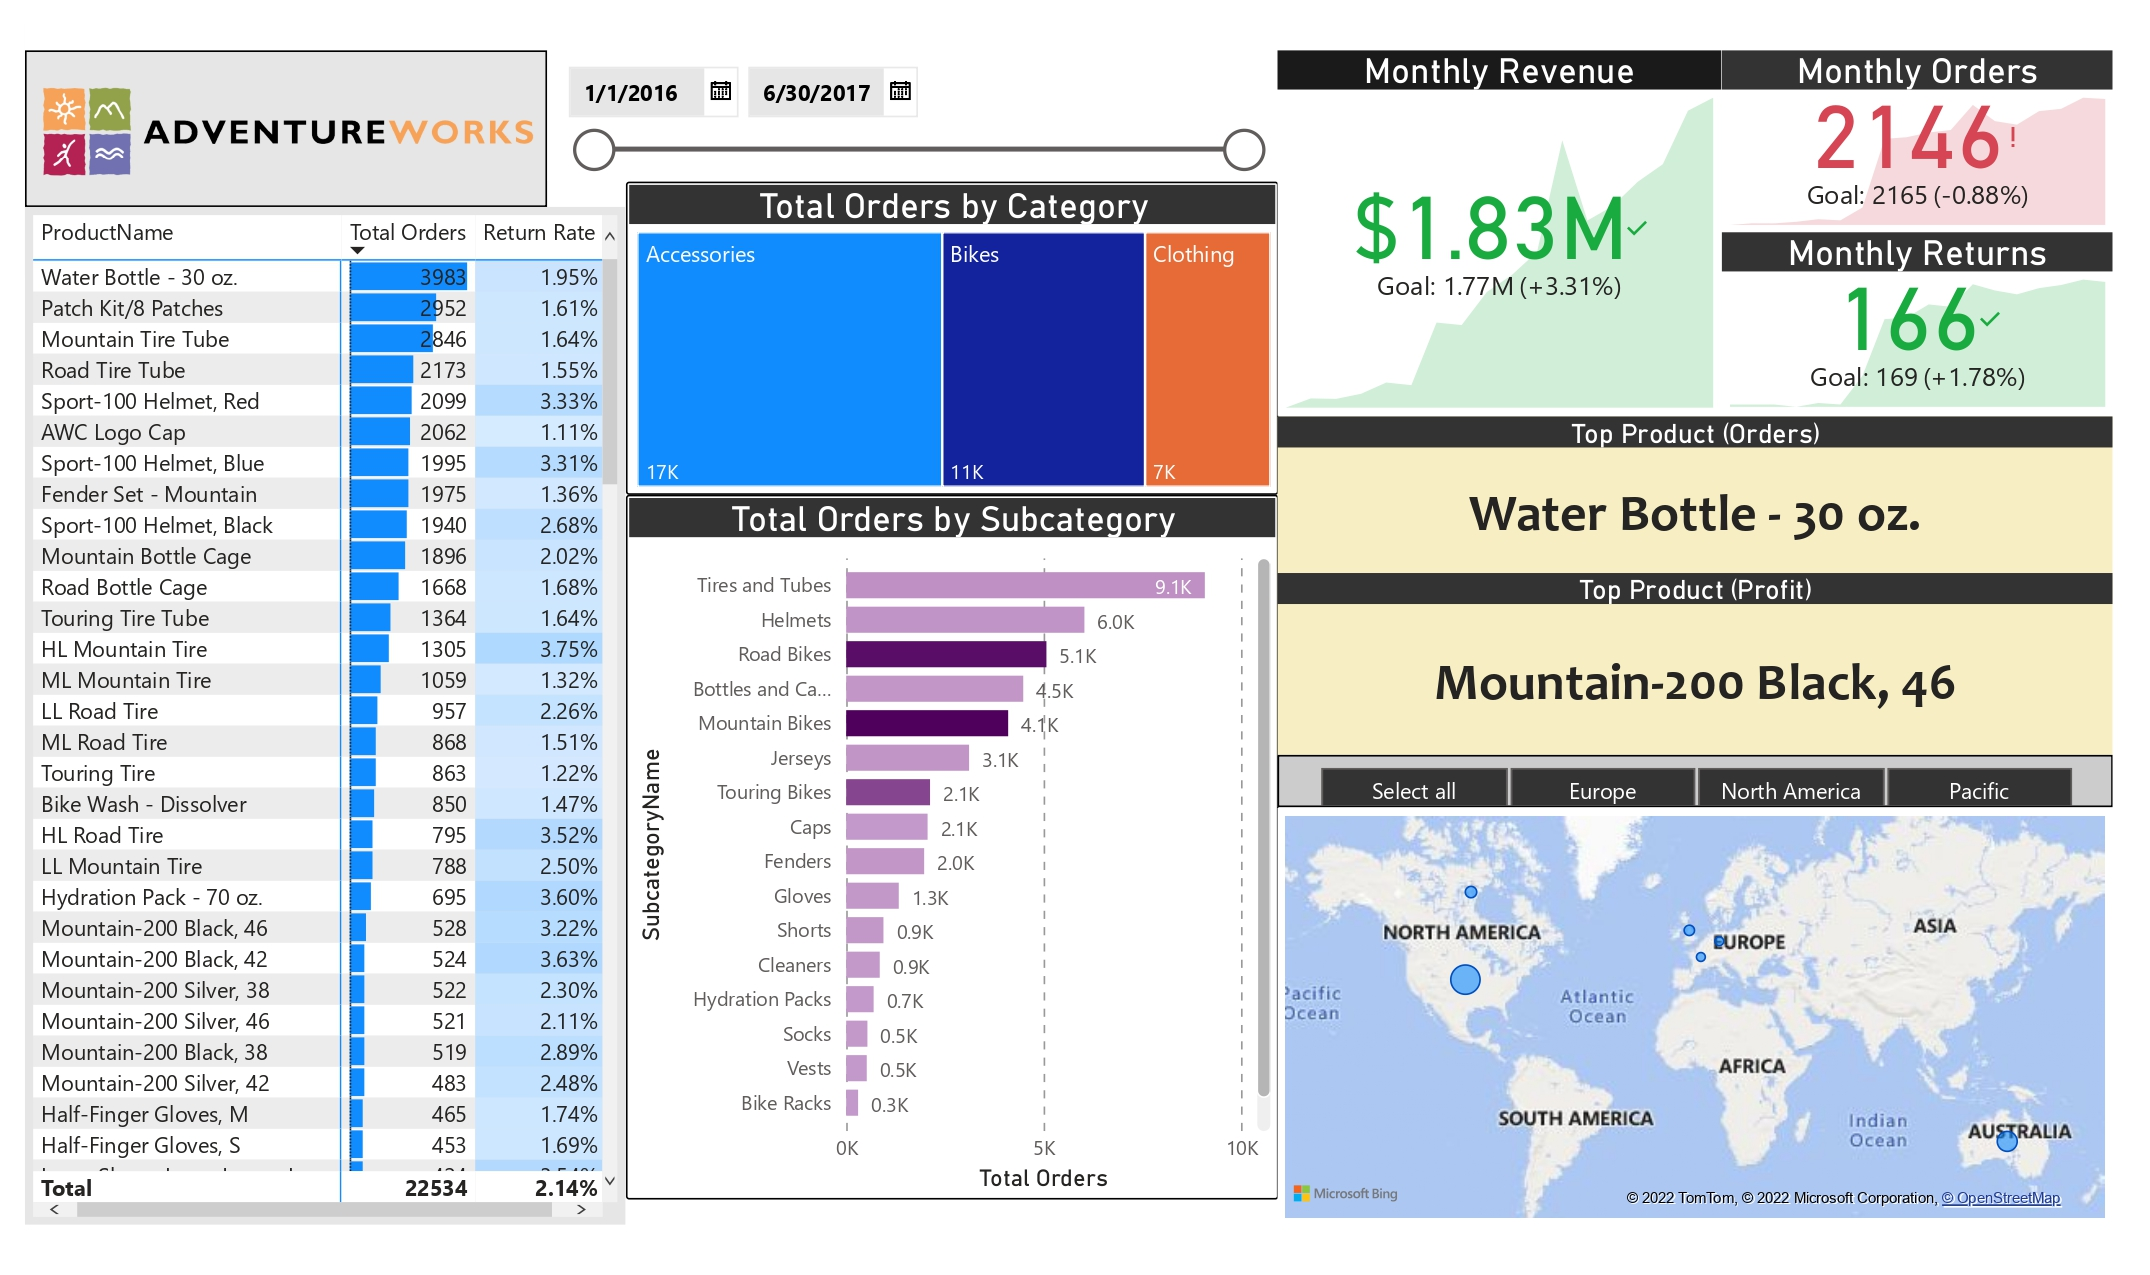

The page's visual inventory and layout, read from the dashboard file:
{"tool":"powerbi","page":{"name":"Exec Summary","canvas":[1280,720],"ordinal":0},"visuals":[{"type":"image","box":[0,0,320,96],"z":0},{"type":"barChart","title":"Total Orders by Subcategory","fields":{"Category":["AW_Product_Subcategory_Lookup.SubcategoryName"],"Y":["AW_Sales.Total Orders"]},"box":[368,272,400,432],"z":1000},{"type":"treemap","title":"Total Orders by Category","fields":{"Group":["AW_Product_Category_Lookup.CategoryName","AW_Product_Subcategory_Lookup.SubcategoryName"],"Values":["AW_Sales.Total Orders"]},"box":[368,80,400,192],"z":2000},{"type":"pivotTable","fields":{"Rows":["AW_Product_Category_Lookup.CategoryName","AW_Product_Subcategory_Lookup.SubcategoryName","AW_Product_Lookup.ProductName"],"Values":["AW_Sales.Total Orders","AW_Returns.Return Rate"]},"box":[0,96,368,624],"z":3000},{"type":"slicer","fields":{"Values":["AW_Calendar_Lookup.Date"]},"box":[320,0,448,80],"z":4000},{"type":"kpi","title":"Monthly Revenue","fields":{"Indicator":["AW_Sales.Total Revenue"],"TrendLine":["AW_Calendar_Lookup.Start of Month"],"Goal":["AW_Sales.Prev Month Revenue"]},"box":[768,0,272,224],"z":5000},{"type":"kpi","title":"Monthly Orders","fields":{"TrendLine":["AW_Calendar_Lookup.Start of Month"],"Goal":["AW_Sales.Prev Month Orders"],"Indicator":["AW_Sales.Total Orders"]},"box":[1040,0,240,112],"z":6000},{"type":"kpi","title":"Monthly Returns","fields":{"TrendLine":["AW_Calendar_Lookup.Start of Month"],"Goal":["AW_Sales.Prev Month Returns"],"Indicator":["AW_Returns.Total Returns"]},"box":[1040,112,240,112],"z":7000},{"type":"card","title":"Top Product (Orders)","fields":{"Values":["Min(AW_Product_Lookup.ProductName)"]},"box":[768,224,512,96],"z":8000},{"type":"card","title":"Top Product (Profit)","fields":{"Values":["Min(AW_Product_Lookup.ProductName)"]},"box":[768,320,512,112],"z":9000},{"type":"map","fields":{"Category":["AW_Territories_Lookup.Country"],"Size":["AW_Sales.Total Orders"]},"box":[768,464,512,256],"z":10000},{"type":"slicer","fields":{"Values":["AW_Territories_Lookup.Continent"]},"box":[768,432,512,32],"z":11000}]}

Visuals, with their boxes on the page's 1280x720 design canvas (x1, y1, x2, y2). These are canvas units, not pixel positions in the 2150x1275 screenshot, which may show the page scaled, cropped or inside an application window:
image: [0,0,320,96]
"Total Orders by Subcategory" barChart: [368,272,768,704]
"Total Orders by Category" treemap: [368,80,768,272]
pivotTable - AW_Product_Category_Lookup.CategoryName x AW_Product_Subcategory_Lookup.SubcategoryName: [0,96,368,720]
slicer - AW_Calendar_Lookup.Date: [320,0,768,80]
"Monthly Revenue" kpi: [768,0,1040,224]
"Monthly Orders" kpi: [1040,0,1280,112]
"Monthly Returns" kpi: [1040,112,1280,224]
"Top Product (Orders)" card: [768,224,1280,320]
"Top Product (Profit)" card: [768,320,1280,432]
map - AW_Territories_Lookup.Country x AW_Sales.Total Orders: [768,464,1280,720]
slicer - AW_Territories_Lookup.Continent: [768,432,1280,464]
